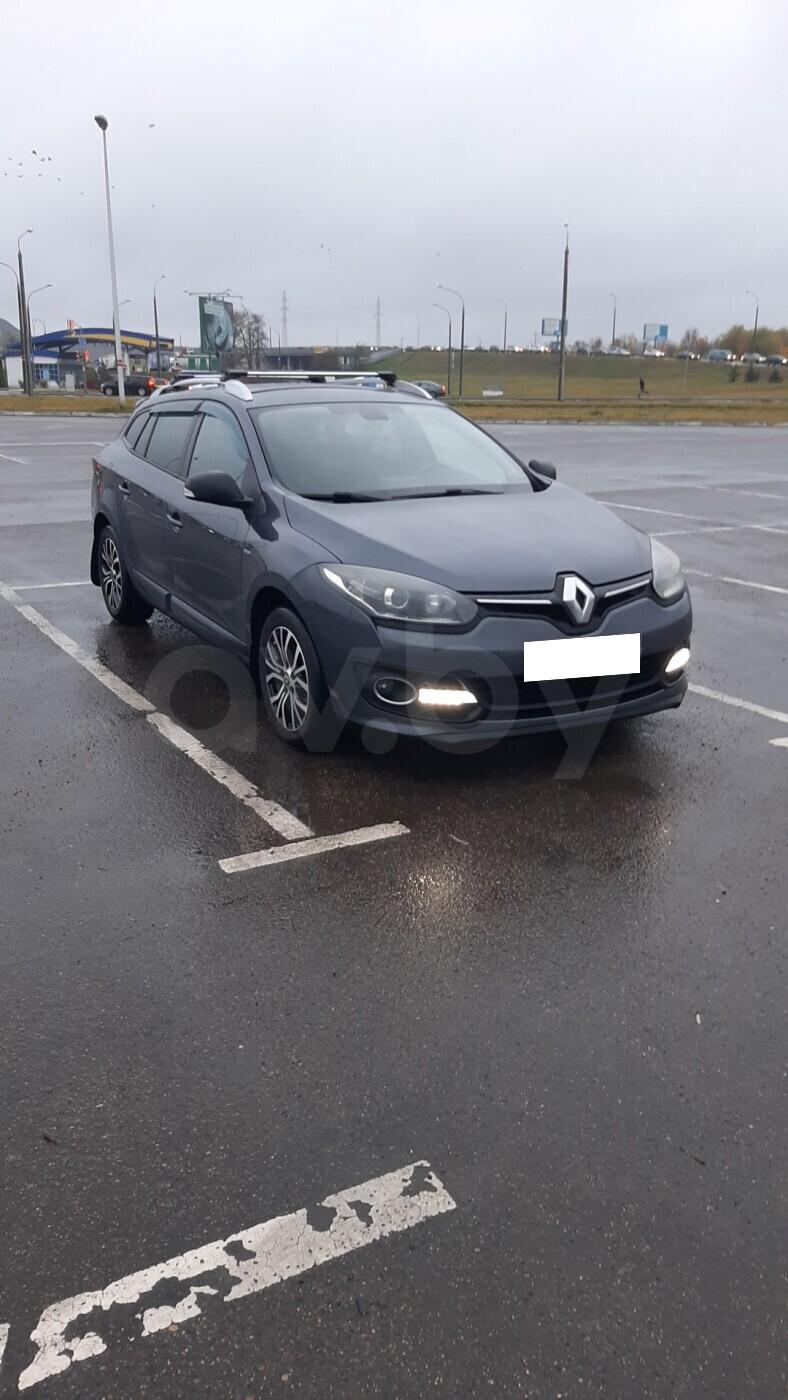Megane_2014-2016: (88, 366, 692, 798)
